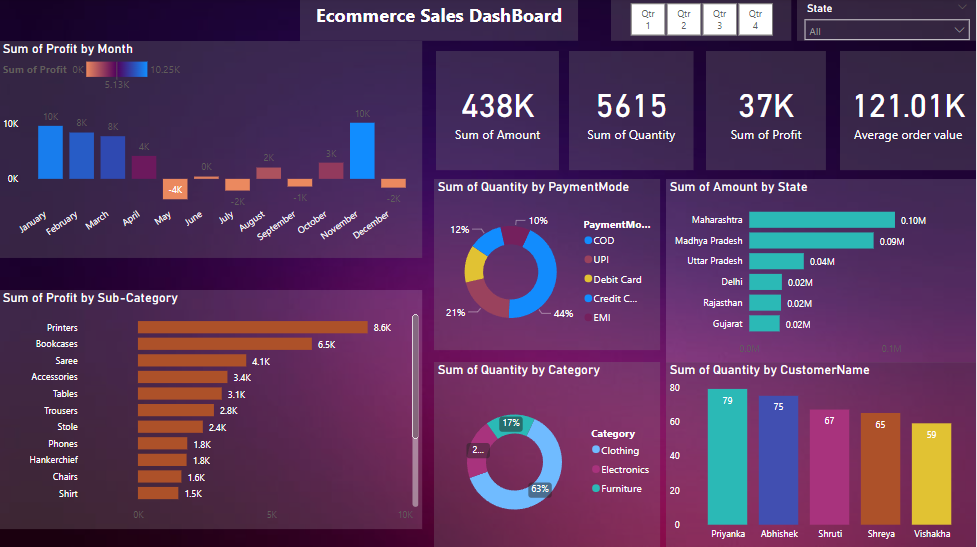

This screenshot's page, from the dashboard's own definition file:
{"tool":"powerbi","page":{"name":"Page 1","canvas":[1280,720],"ordinal":0},"visuals":[{"type":"textbox","box":[394.4,0,364.4,55.6],"z":0},{"type":"columnChart","fields":{"Y":["Sum(Details.Profit)"],"Category":["Orders.Order Date.Variation.Date Hierarchy.Month"]},"box":[0,55.7,554.3,284.3],"z":1},{"type":"barChart","fields":{"Category":["Details.Sub-Category"],"Y":["Sum(Details.Profit)"]},"box":[0,382.9,554.3,312.9],"z":2},{"type":"donutChart","fields":{"Category":["Details.PaymentMode"],"Y":["Sum(Details.Quantity)"]},"box":[570,237.1,295.7,224.3],"z":3},{"type":"donutChart","fields":{"Category":["Details.Category"],"Y":["Sum(Details.Quantity)"]},"box":[570,477.1,295.7,242.9],"z":4},{"type":"card","fields":{"Values":["Sum(Details.Amount)"]},"box":[571.4,70,161.4,155.7],"z":5},{"type":"card","fields":{"Values":["Sum(Details.Quantity)"]},"box":[745.7,70,162.9,155.7],"z":6},{"type":"card","fields":{"Values":["Sum(Details.Profit)"]},"box":[925.7,70,157.1,155.7],"z":7},{"type":"card","fields":{"Values":["Sum(Details.avg)"]},"box":[1101.4,70,178.6,155.7],"z":8},{"type":"barChart","fields":{"Category":["Orders.State"],"Y":["Sum(Details.Amount)"]},"box":[872.9,237.1,407.1,240],"z":9},{"type":"columnChart","fields":{"Category":["Orders.CustomerName"],"Y":["Sum(Details.Quantity)"]},"box":[873,477,407,243],"z":10},{"type":"slicer","fields":{"Values":["Orders.Order Date.Variation.Date Hierarchy.Quarter"]},"box":[801.1,0,235.6,55.6],"z":11},{"type":"slicer","fields":{"Values":["Orders.State"]},"box":[1044.4,0,235.6,55.6],"z":12}]}

Visuals, with their boxes in screenshot pixels (x1, y1, x2, y2), scaled from the page's 1280x720 canvas onto the 977x547 screenshot:
textbox: box(301, 0, 579, 42)
columnChart - Sum(Details.Profit) x Orders.Order Date.Variation.Date Hierarchy.Month: box(0, 42, 423, 258)
barChart - Details.Sub-Category x Sum(Details.Profit): box(0, 291, 423, 529)
donutChart - Details.PaymentMode x Sum(Details.Quantity): box(435, 180, 661, 351)
donutChart - Details.Category x Sum(Details.Quantity): box(435, 362, 661, 546)
card - Sum(Details.Amount): box(436, 53, 559, 171)
card - Sum(Details.Quantity): box(569, 53, 694, 171)
card - Sum(Details.Profit): box(707, 53, 826, 171)
card - Sum(Details.avg): box(841, 53, 976, 171)
barChart - Orders.State x Sum(Details.Amount): box(666, 180, 976, 362)
columnChart - Orders.CustomerName x Sum(Details.Quantity): box(666, 362, 976, 546)
slicer - Orders.Order Date.Variation.Date Hierarchy.Quarter: box(611, 0, 791, 42)
slicer - Orders.State: box(797, 0, 976, 42)
